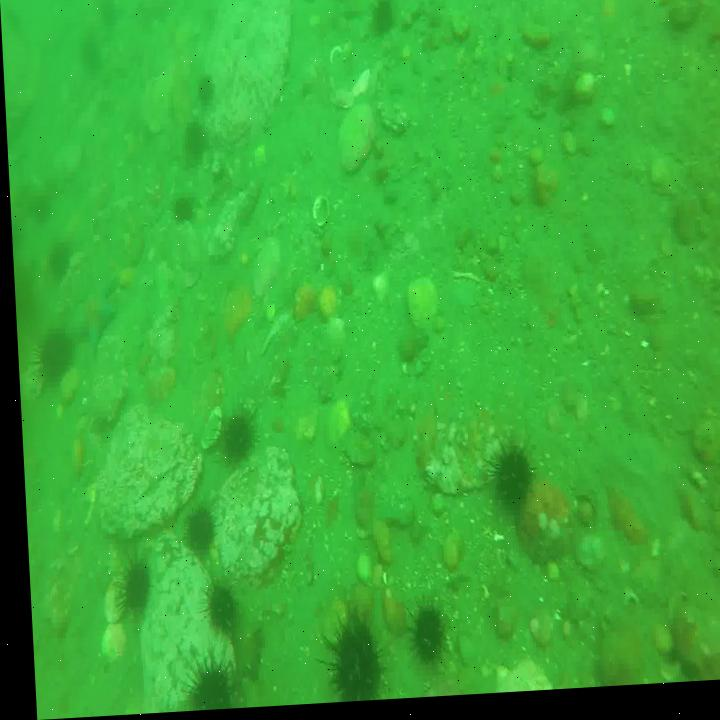echinus: (309, 606, 378, 707), (486, 447, 528, 517), (30, 332, 75, 389), (405, 601, 443, 668), (179, 660, 226, 713), (195, 580, 234, 642), (180, 511, 219, 566), (112, 559, 149, 614), (218, 415, 254, 470), (370, 0, 397, 42), (170, 187, 197, 225), (181, 126, 205, 160), (45, 238, 71, 269), (199, 79, 219, 105)
scallop: (569, 538, 604, 583), (308, 192, 333, 235)
starfish: (74, 281, 119, 359)
